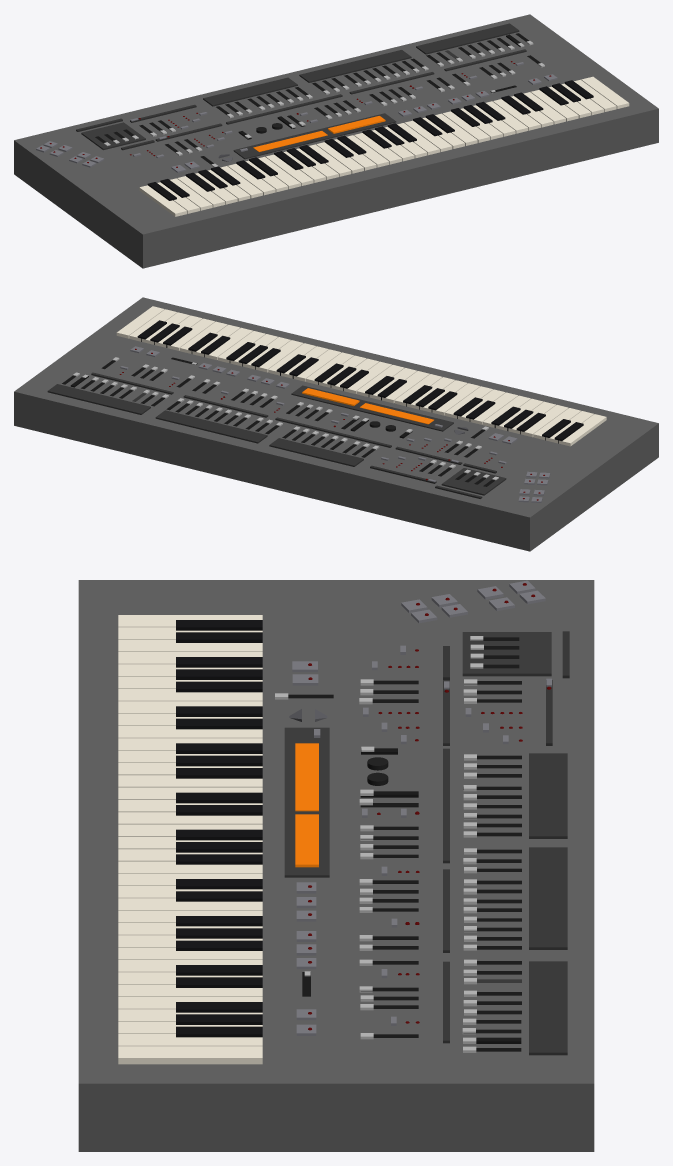
3 views of the same model, one above another, from view 1: azimuth 30°, elevation 25°; view 2: azimuth 150°, elevation 25°; view 3: azimuth 270°, elevation 25° (orthographic). The views are drawn at different scales.
Visible parts, largest first — view 1: synth_body.1, panel1.1, panel3, panel3.1, panel2, panel1, Key_C1, Key_C6, panel1.2, Key_F1, Key_F4, Key_F5 (+18 smaller); view 2: synth_body.1, panel1.1, panel3, panel3.1, panel2, panel1, Key_C1, Key_C6, panel1.2, Key_F1, Key_F4, Key_F5 (+18 smaller); view 3: synth_body.1, panel1.1, panel3, panel3.1, panel1, panel2, Key_C6, panel1.2, Key_B2, Key_E2, Key_B1, Key_E3 (+58 smaller).
Part boxes in pixels (left/top/right/bottom): synth_body.1: left=14, top=14, right=658, bottom=268; panel1.1: left=233, top=113, right=396, bottom=159; panel3: left=299, top=50, right=411, bottom=82; panel3.1: left=416, top=23, right=519, bottom=54; panel2: left=203, top=77, right=297, bottom=106; panel1: left=81, top=122, right=145, bottom=150; Key_C1: left=139, top=185, right=187, bottom=216; Key_C6: left=581, top=76, right=629, bottom=108; panel1.2: left=253, top=131, right=327, bottom=151; Key_F1: left=177, top=176, right=225, bottom=207; Key_F4: left=442, top=111, right=490, bottom=142; Key_F5: left=530, top=90, right=578, bottom=121; synth_body.1: left=14, top=297, right=658, bottom=551; panel1.1: left=291, top=385, right=453, bottom=431; panel3: left=155, top=410, right=267, bottom=443; panel3.1: left=47, top=384, right=150, bottom=414; panel2: left=269, top=438, right=363, bottom=466; panel1: left=441, top=468, right=506, bottom=495; Key_C1: left=558, top=414, right=606, bottom=446; Key_C6: left=116, top=306, right=164, bottom=338; panel1.2: left=360, top=403, right=433, bottom=424; Key_F1: left=520, top=405, right=568, bottom=437; Key_F4: left=255, top=340, right=303, bottom=372; Key_F5: left=167, top=318, right=215, bottom=350; synth_body.1: left=78, top=580, right=594, bottom=1151; panel1.1: left=284, top=727, right=329, bottom=877; panel3: left=529, top=847, right=567, bottom=949; panel3.1: left=529, top=961, right=567, bottom=1055; panel1: left=462, top=632, right=551, bottom=676; panel2: left=529, top=753, right=567, bottom=838; Key_C6: left=118, top=1046, right=262, bottom=1064; panel1.2: left=295, top=743, right=318, bottom=811; Key_B2: left=118, top=775, right=262, bottom=787; Key_E2: left=118, top=726, right=262, bottom=738; Key_B1: left=118, top=689, right=262, bottom=701; Key_E3: left=118, top=812, right=262, bottom=824.
Size of what is drawn, in the model's own units: 7.96 by 0.574 by 3.44.
